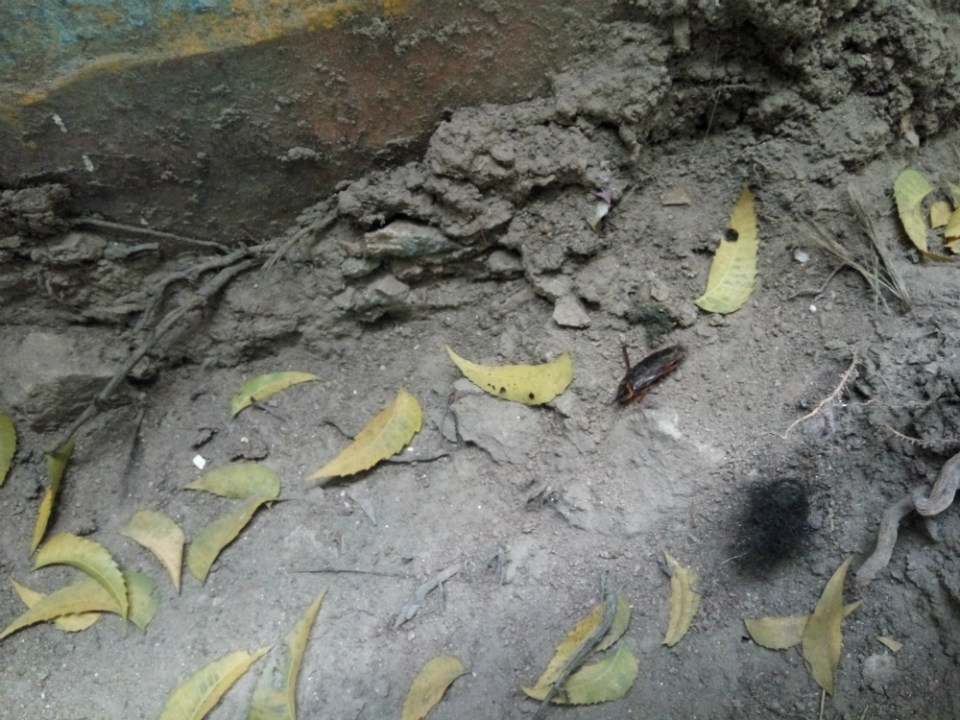cockroach: (559, 339, 757, 430)
